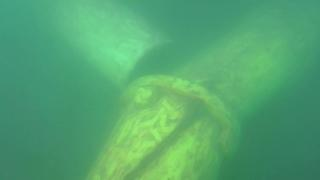pipe: (170, 1, 320, 122), (85, 74, 246, 180), (30, 1, 174, 91)
